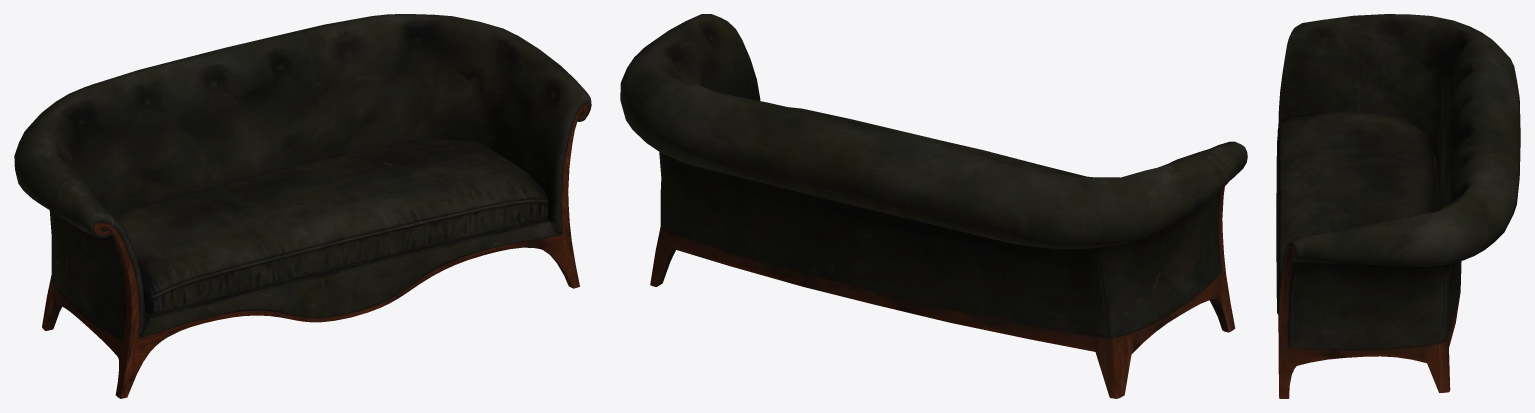
File: sofa_02.gltf
The picture shows the model from 3 angles, left to right: view 1: azimuth 30°, elevation 25°; view 2: azimuth 150°, elevation 25°; view 3: azimuth 270°, elevation 25°; orthographic projection. The views are drawn at different scales.
Parts seen in each view (by area): view 1: sofa_02_Base, sofa_02_Seat; view 2: sofa_02_Base, sofa_02_Seat; view 3: sofa_02_Base, sofa_02_Seat.
Boxes of the visible parts, box(x1,y1,x2,y2) form: sofa_02_Base: box(14, 14, 591, 398); sofa_02_Seat: box(115, 139, 549, 314); sofa_02_Base: box(620, 14, 1247, 398); sofa_02_Seat: box(789, 107, 1086, 176); sofa_02_Base: box(1278, 14, 1520, 398); sofa_02_Seat: box(1276, 112, 1433, 314).
Bounding box in the file's own units: 1.81 × 0.7095 × 0.8178.
1 material, 1 textured.
